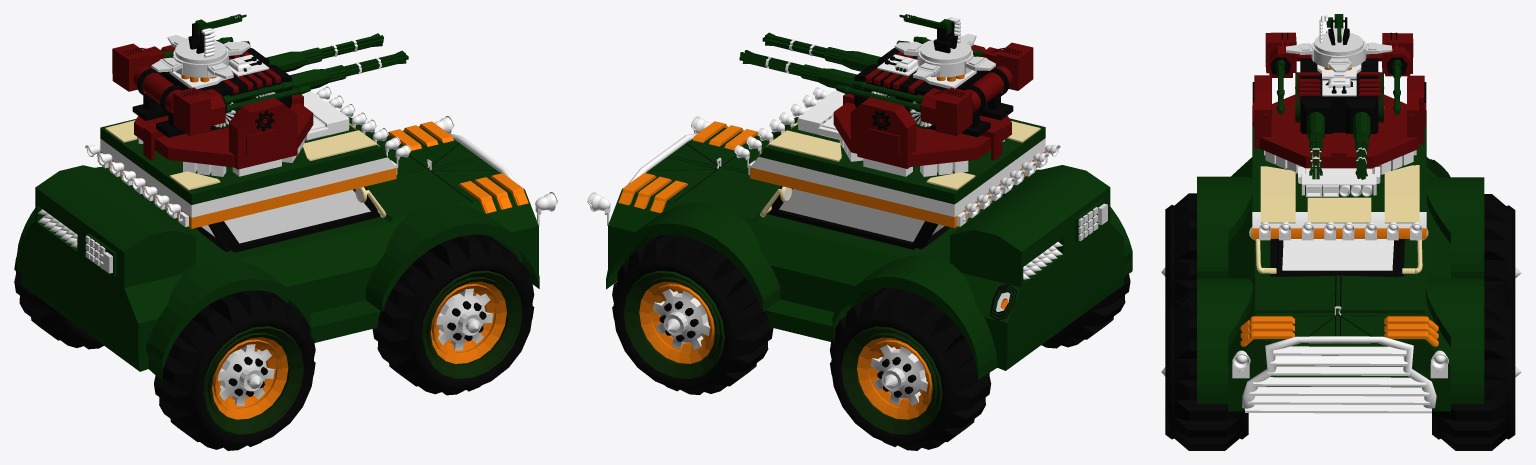
The model's file is TURRET GUN 1.fbx.
The picture shows the model from 3 angles, left to right: view 1: azimuth 30°, elevation 25°; view 2: azimuth 150°, elevation 25°; view 3: azimuth 270°, elevation 25°; orthographic projection. The views are drawn at different scales.
Visible parts, largest first — view 1: CAR_BODY_1, CAR_UPPER_BODY, BACK_RIGHT_WHEEL1, FRONT_RIGHT_WHEEL1, SIDE_GUN1, UPPER_GUN_polySurface23, FRONT_GUN1, polySurface809; view 2: CAR_BODY_1, CAR_UPPER_BODY, polySurface809, FRONT_LEFT_WHEL, SIDE_GUN1, UPPER_GUN_polySurface23, FRONT_GUN1, BACK_RIGHT_WHEEL1; view 3: CAR_BODY_1, CAR_UPPER_BODY, FRONT_LEFT_WHEL, FRONT_RIGHT_WHEEL1, BACK_RIGHT_WHEEL1, polySurface809, SIDE_GUN1, UPPER_GUN_polySurface23, FRONT_GUN1.
Part boxes in pixels (x1=…): CAR_BODY_1: x1=16, y1=116, x2=558, y2=381; CAR_UPPER_BODY: x1=85, y1=45, x2=410, y2=252; BACK_RIGHT_WHEEL1: x1=154, y1=290, x2=315, y2=450; FRONT_RIGHT_WHEEL1: x1=372, y1=234, x2=534, y2=395; SIDE_GUN1: x1=112, y1=37, x2=310, y2=135; UPPER_GUN_polySurface23: x1=151, y1=14, x2=250, y2=78; FRONT_GUN1: x1=266, y1=33, x2=408, y2=89; polySurface809: x1=14, y1=257, x2=103, y2=349; CAR_BODY_1: x1=587, y1=116, x2=1132, y2=379; CAR_UPPER_BODY: x1=734, y1=44, x2=1060, y2=249; polySurface809: x1=830, y1=288, x2=991, y2=450; FRONT_LEFT_WHEL: x1=612, y1=234, x2=773, y2=394; SIDE_GUN1: x1=836, y1=36, x2=1033, y2=136; UPPER_GUN_polySurface23: x1=894, y1=14, x2=995, y2=78; FRONT_GUN1: x1=739, y1=32, x2=880, y2=88; BACK_RIGHT_WHEEL1: x1=1041, y1=274, x2=1130, y2=348; CAR_BODY_1: x1=1197, y1=157, x2=1484, y2=413; CAR_UPPER_BODY: x1=1249, y1=41, x2=1428, y2=277; FRONT_LEFT_WHEL: x1=1432, y1=293, x2=1521, y2=450; FRONT_RIGHT_WHEEL1: x1=1161, y1=293, x2=1248, y2=450; BACK_RIGHT_WHEEL1: x1=1161, y1=193, x2=1196, y2=308; polySurface809: x1=1484, y1=194, x2=1521, y2=308; SIDE_GUN1: x1=1265, y1=32, x2=1413, y2=114; UPPER_GUN_polySurface23: x1=1286, y1=14, x2=1392, y2=72; FRONT_GUN1: x1=1307, y1=111, x2=1370, y2=179.
Bounding box in the file's own units: 133 × 107 × 102.
